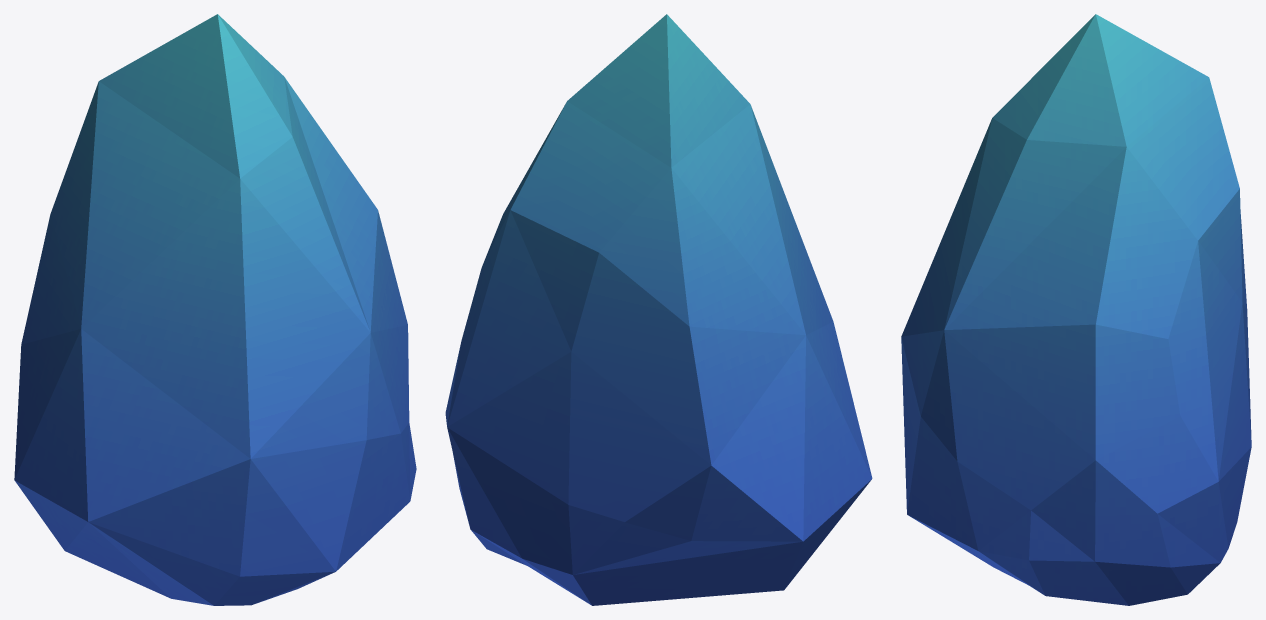
File: Waterdrop_001.FBX
3 views of the same model, side by side, from view 1: azimuth 30°, elevation 25°; view 2: azimuth 150°, elevation 25°; view 3: azimuth 270°, elevation 25° (orthographic). The views are drawn at different scales.
Visible parts, largest first — view 1: Waterdrop_001; view 2: Waterdrop_001; view 3: Waterdrop_001.
Boxes of the visible parts, x1=… form: Waterdrop_001: x1=14, y1=14, x2=416, y2=605; Waterdrop_001: x1=445, y1=14, x2=872, y2=605; Waterdrop_001: x1=901, y1=14, x2=1251, y2=605.
Bounding box in the file's own units: 0.2583 × 0.3878 × 0.2203.
1 material, 1 textured.
